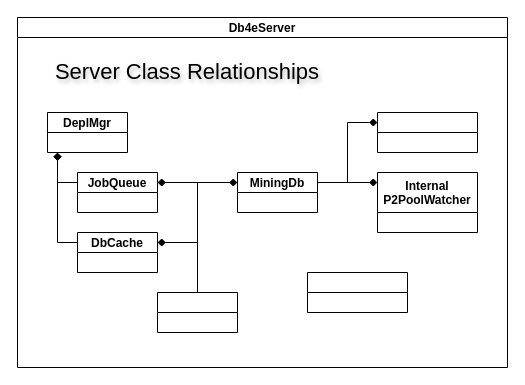
The diagram is 525 pixels wide and 385 high, and some of its shapes have lost their labels. Each missing label, with the centre of its shape:
Db4eSystemd: [357,292]
DbMgr: [197,312]
P2PoolWatcher: [427,132]
